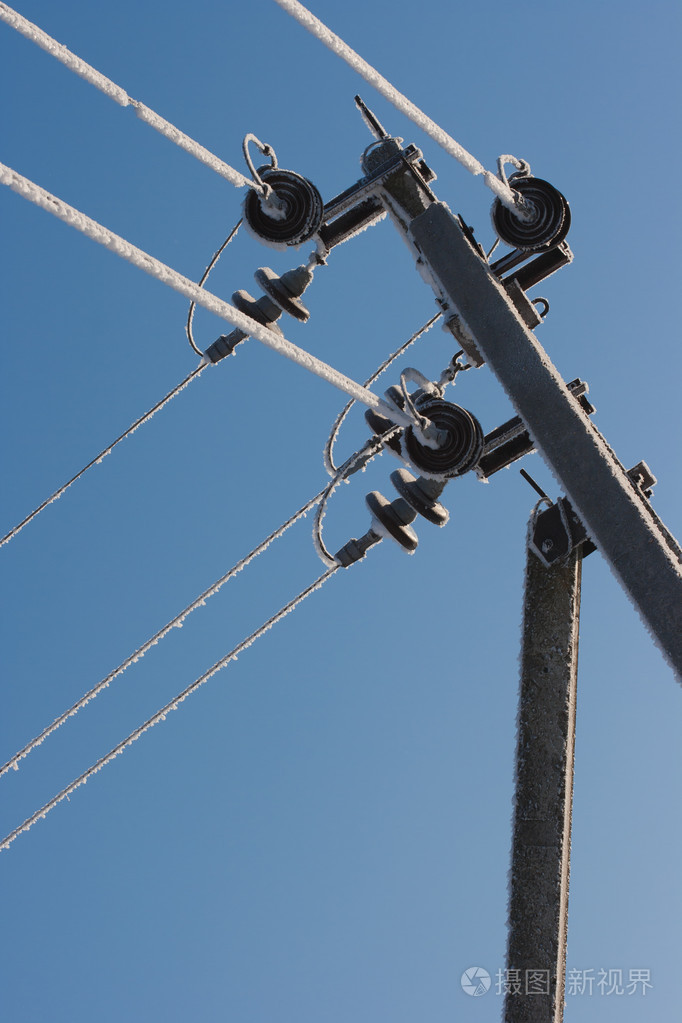insulator: (364, 473, 447, 554), (238, 168, 324, 245), (487, 181, 573, 250), (405, 404, 483, 469), (234, 267, 302, 337)
